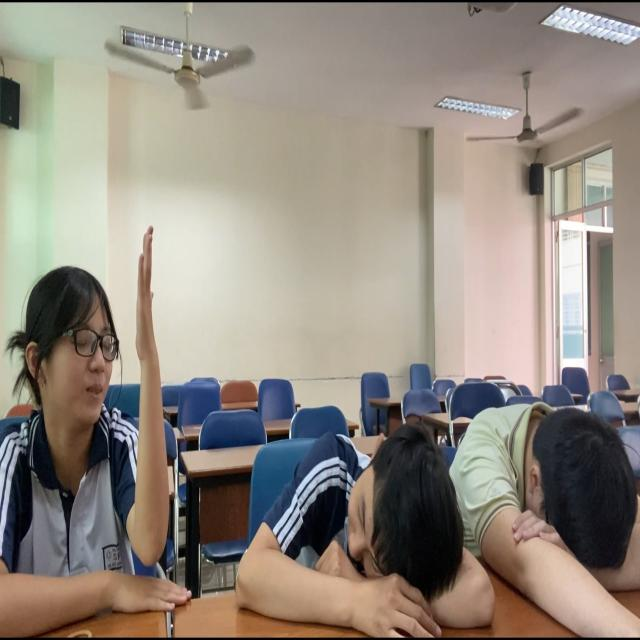raise_hand: (1, 213, 201, 640)
sleep: (234, 402, 508, 640), (462, 317, 640, 640)
